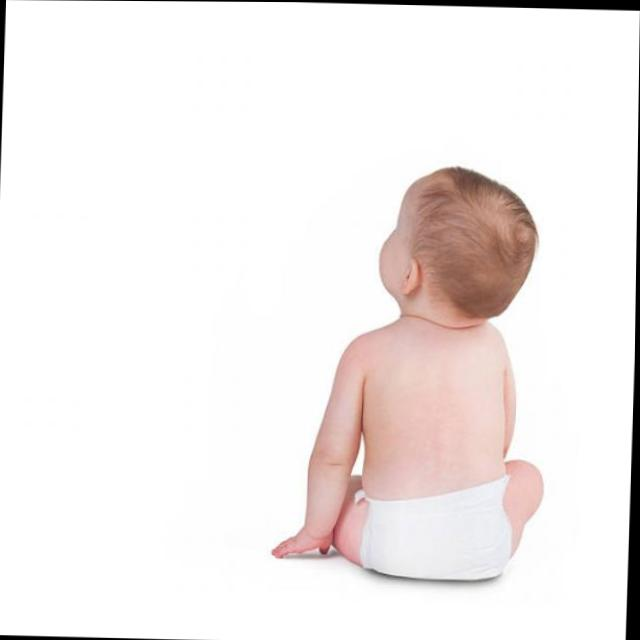no helmet: (371, 151, 548, 339)
